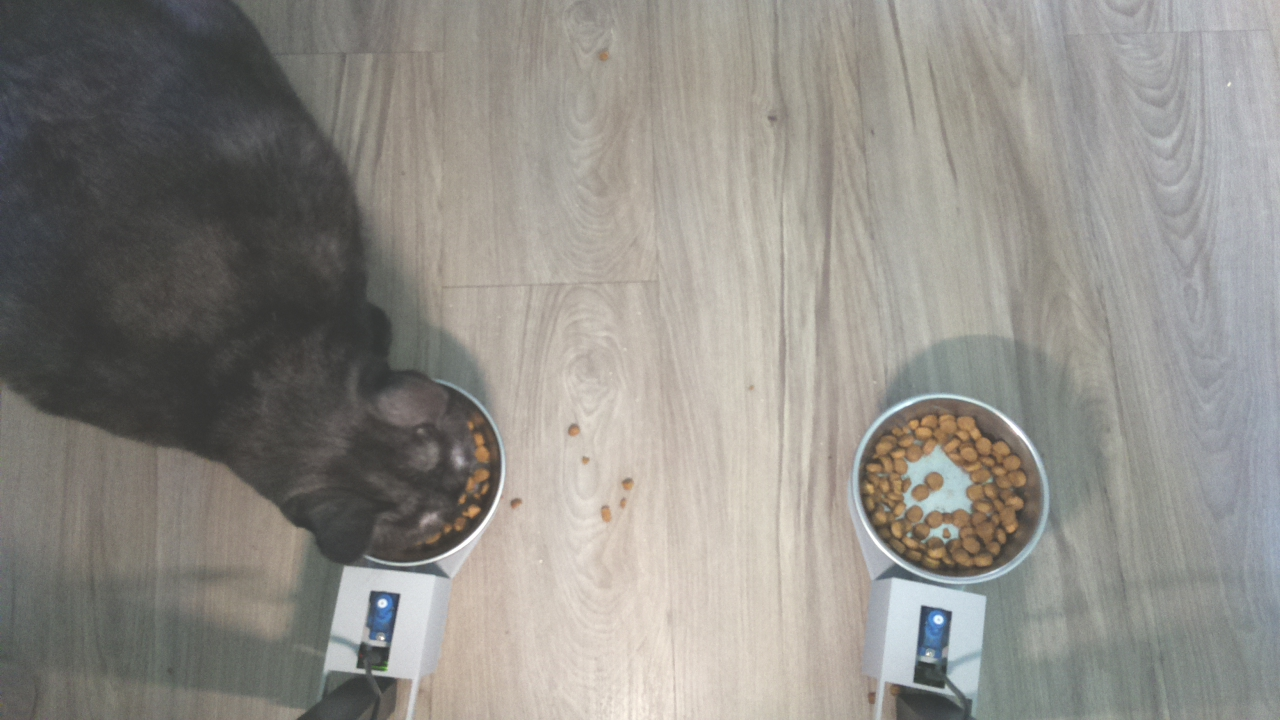open_bowl: (847, 390, 1052, 585)
saki_eating: (233, 321, 512, 576)
